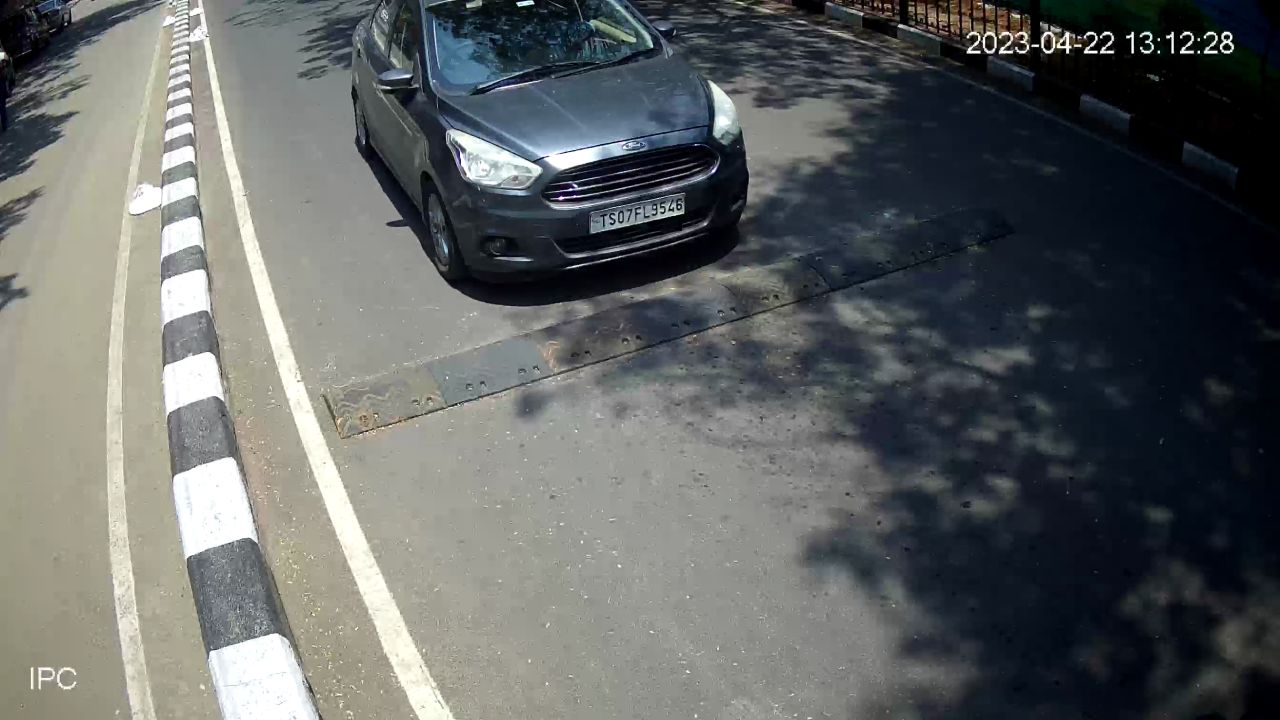license_plate: (584, 187, 691, 247)
